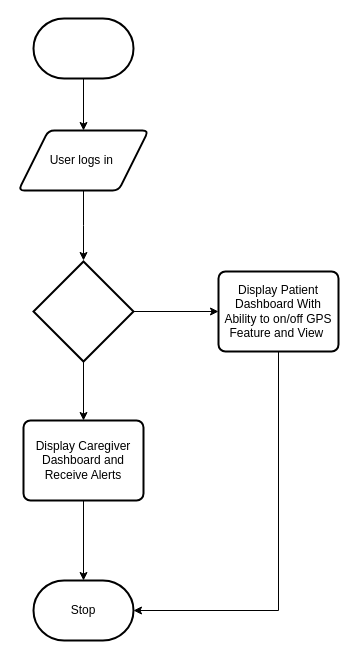
Some shapes in this 356 by 658 pixel diagram are drawn without their labels. Here are the shapes that lost their labels. From the top down, the centre of each, then its label:
the point at 83,48: Start
the point at 83,311: If Patient logged in
